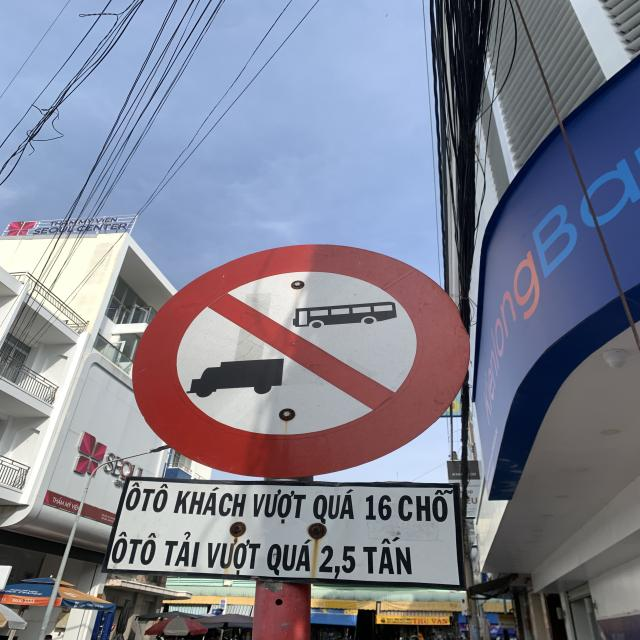Cam_XeTai_XeKhach: (131, 244, 470, 481)
